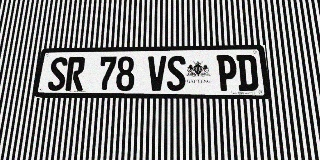7: (97, 56, 117, 91)
8: (115, 56, 135, 91)
D: (236, 55, 259, 91)
P: (216, 55, 238, 91)
R: (65, 57, 86, 91)
S: (47, 57, 68, 91), (167, 56, 186, 91)
V: (147, 56, 166, 91)
